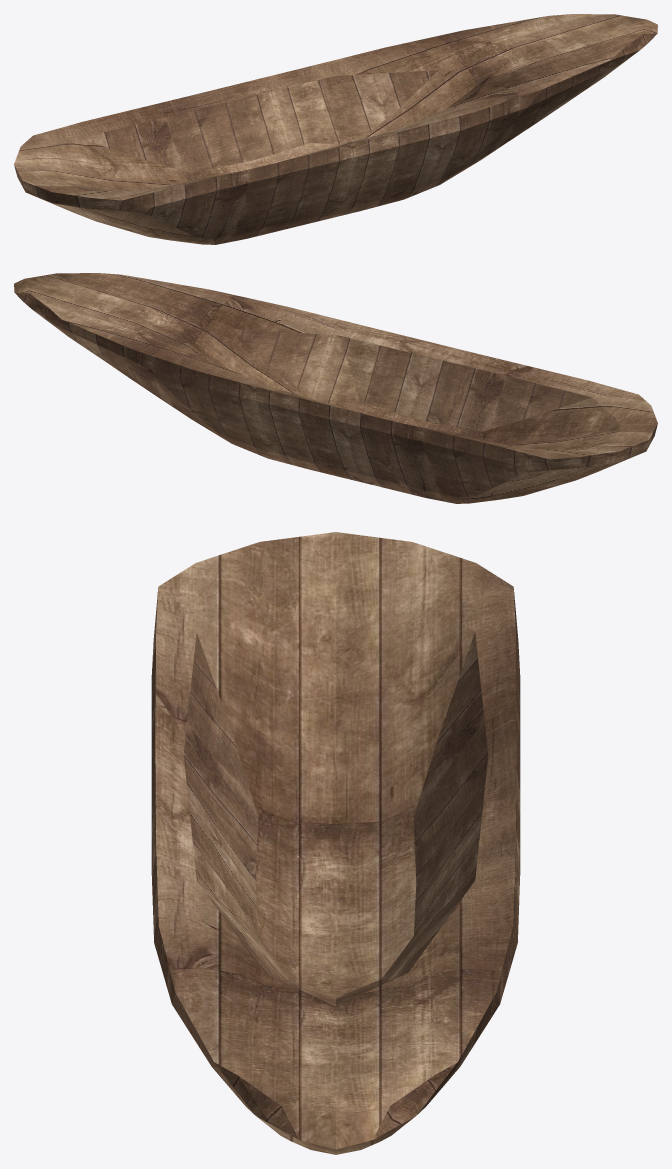
File: canoa.glb
3 renders of one model, top to bottom at view 1: azimuth 30°, elevation 25°; view 2: azimuth 150°, elevation 25°; view 3: azimuth 270°, elevation 25°, orthographic. The views are drawn at different scales.
Parts seen in each view (by area): view 1: canoa; view 2: canoa; view 3: canoa.
Boxes of the visible parts, x1,y1,x2,y2 form: canoa: (14, 14, 657, 244); canoa: (14, 273, 657, 503); canoa: (151, 532, 520, 1154).
Size of the model in its own units: 3.8 by 0.5729 by 0.9562.
Materials: 1 (1 with a texture image).
